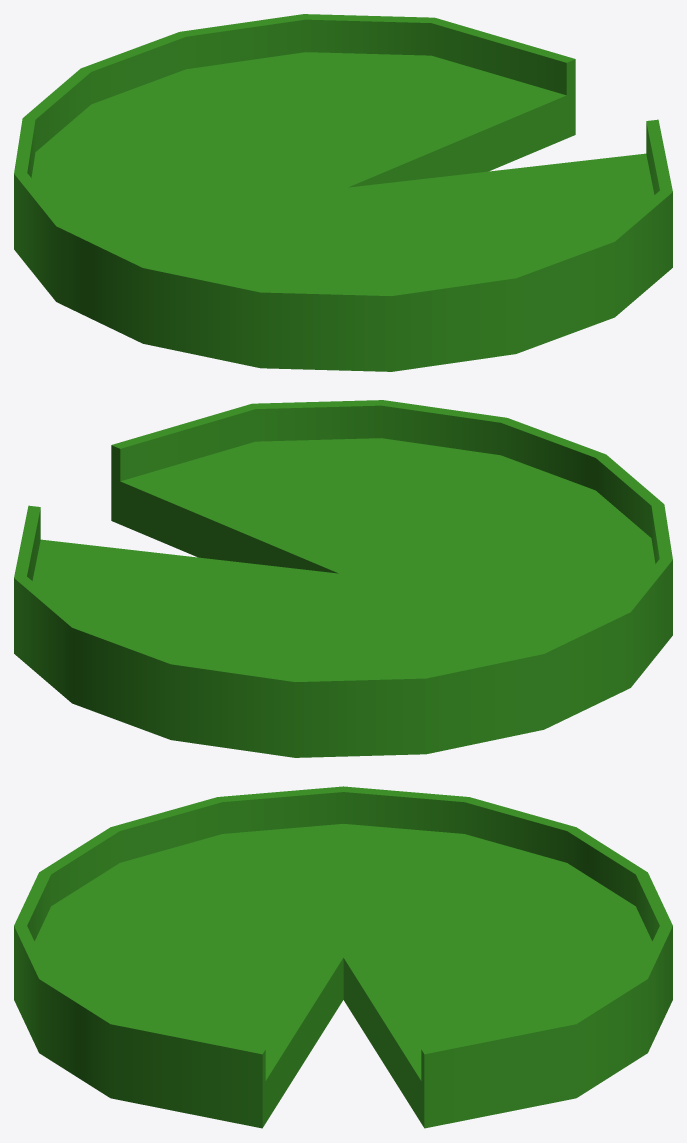
File: lilypad_cut.fbx
3 renders of one model, top to bottom at view 1: azimuth 30°, elevation 25°; view 2: azimuth 150°, elevation 25°; view 3: azimuth 270°, elevation 25°, orthographic. The views are drawn at different scales.
Visible parts, largest first — view 1: lilypad_cut; view 2: lilypad_cut; view 3: lilypad_cut.
Part boxes in pixels (x1,y1,x2,y2): lilypad_cut: (14, 14, 672, 371); lilypad_cut: (14, 400, 672, 757); lilypad_cut: (14, 786, 672, 1128).
Size of the model in its own units: 192 by 24.83 by 200.
